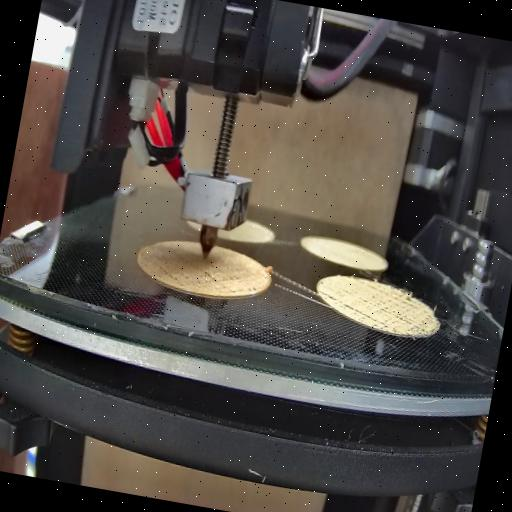under_extrusion: (340, 284, 432, 335), (193, 258, 259, 308), (153, 258, 195, 290), (316, 285, 340, 308)
